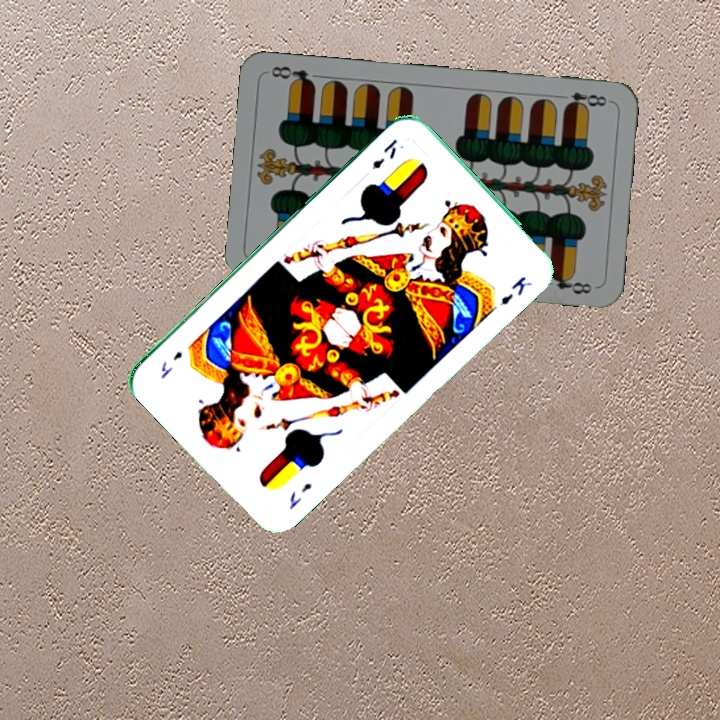E8: (554, 88, 610, 112)
EK: (368, 134, 400, 172), (285, 478, 315, 512)
